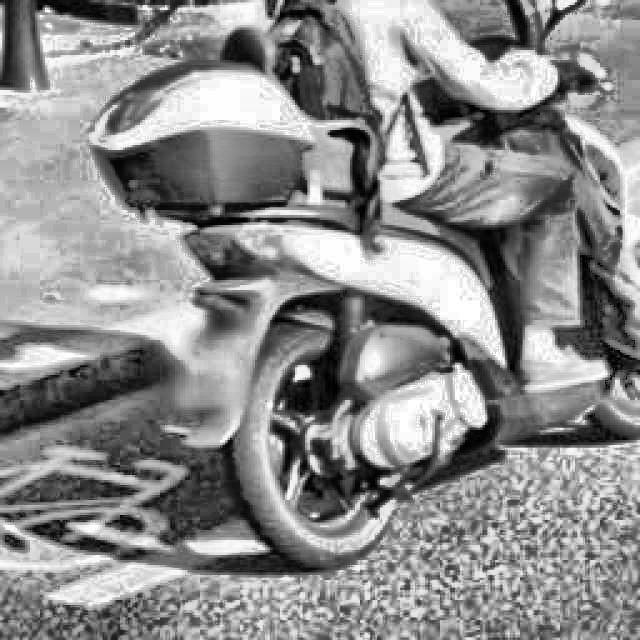motorcycle: (36, 0, 640, 569)
